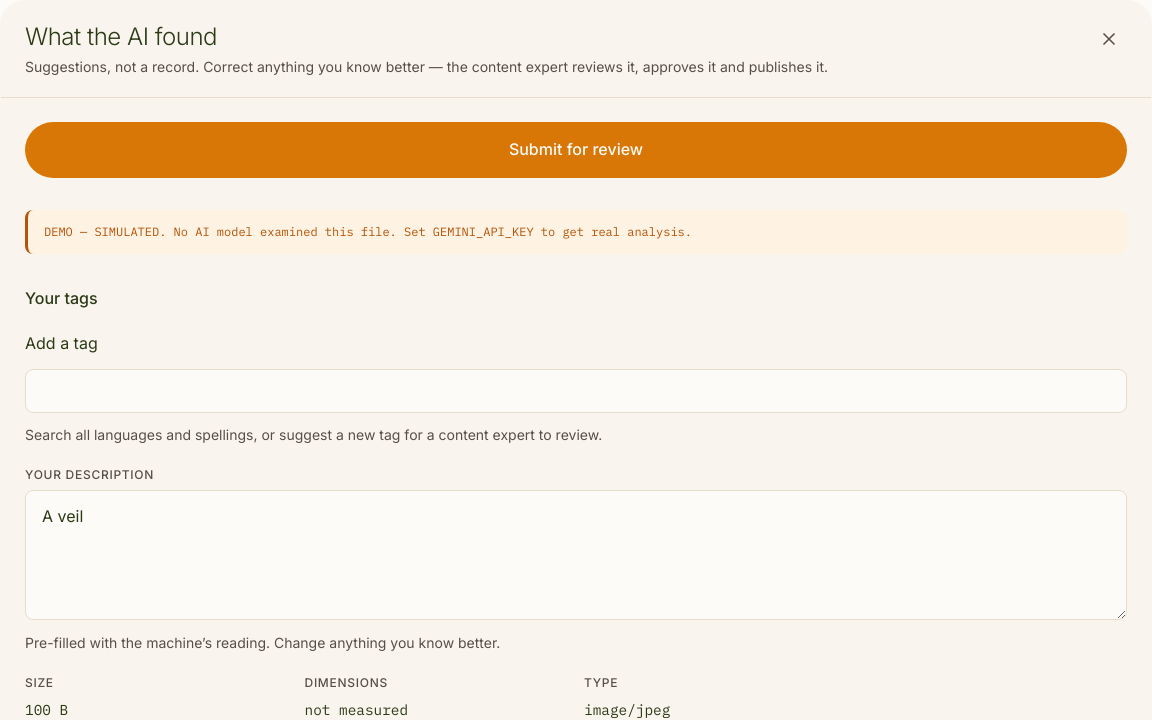
Test: offers replacement after an edit and applies summary, background and notes only on confirmation
Replace the text in the text box labelled "Your description" with "A pallu". click: (576, 555)
box: [25,490,1127,620]
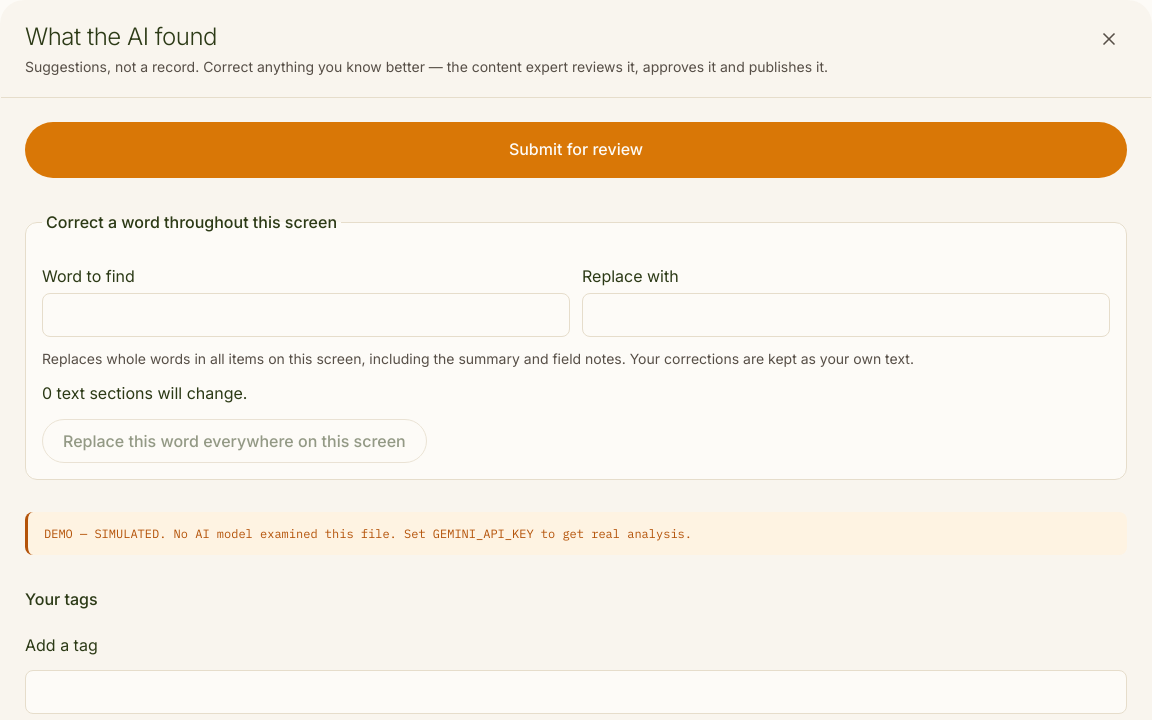
Type "veil" into the field labelled "Word to find". click: (306, 315)
box: [42,293,570,337]
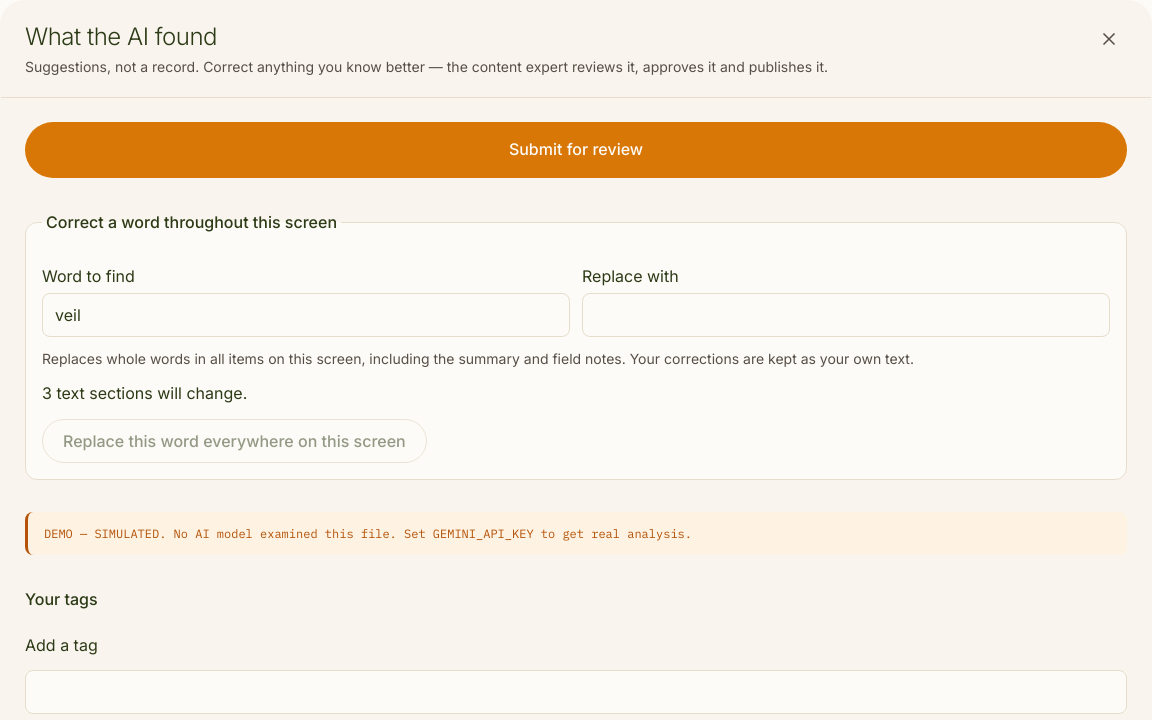
Type "pallu" into the field labelled "Replace with". click: (846, 315)
box: [582,293,1110,337]
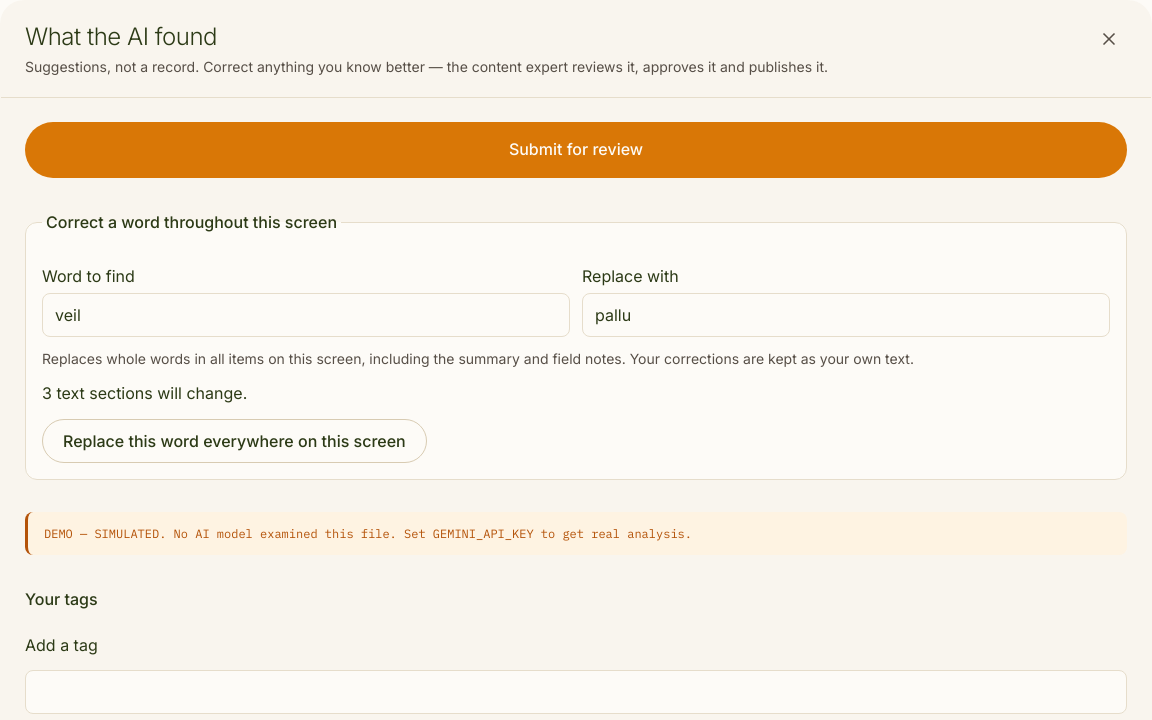
Click the button "Replace this word everywhere on this screen". click: (234, 441)
box: [42,419,427,463]
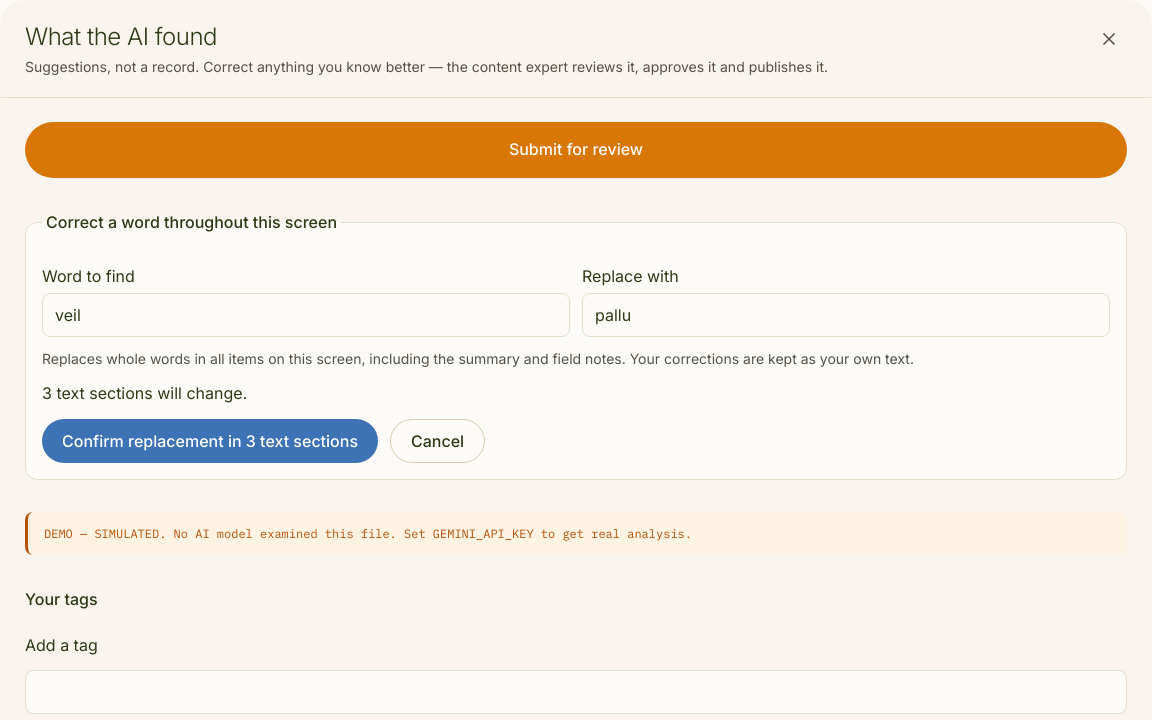
Click the button "Confirm replacement in 3 text sections". click: (210, 441)
box: [42,419,378,463]
(page scrolled)
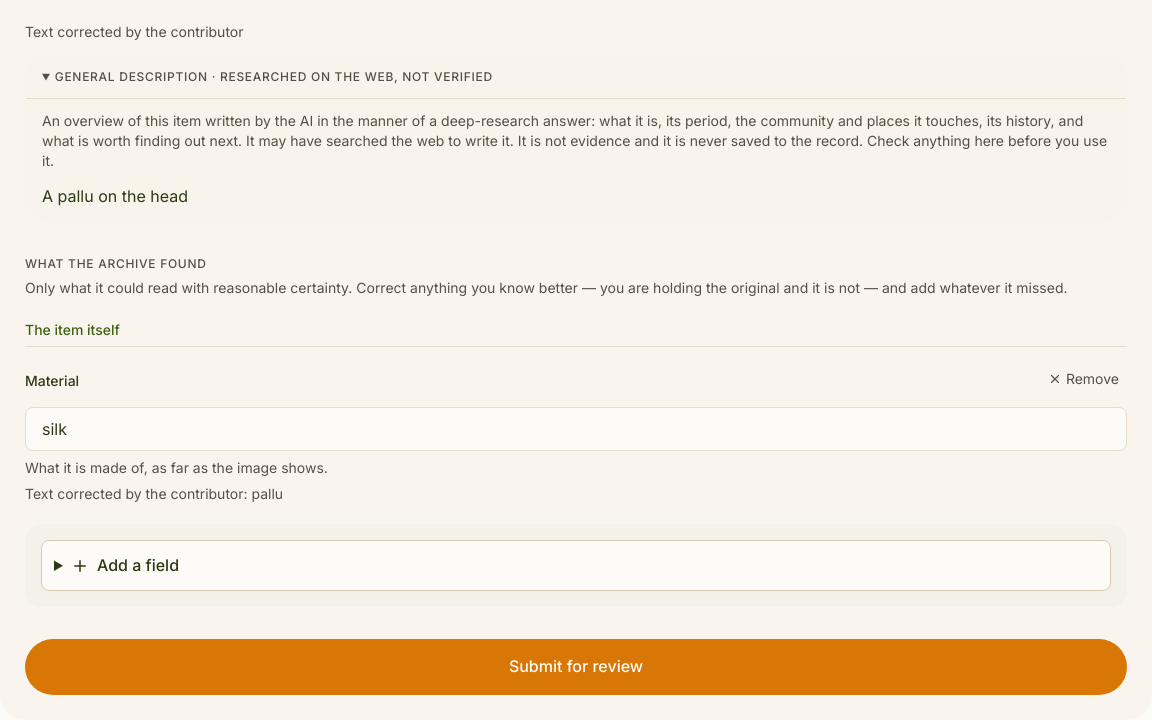
Expected: the text "A pallu on the head" is shown, [42,186,188,206]
Expected: the text "Text corrected by the contributor: pallu" is shown, [25,484,283,502]
